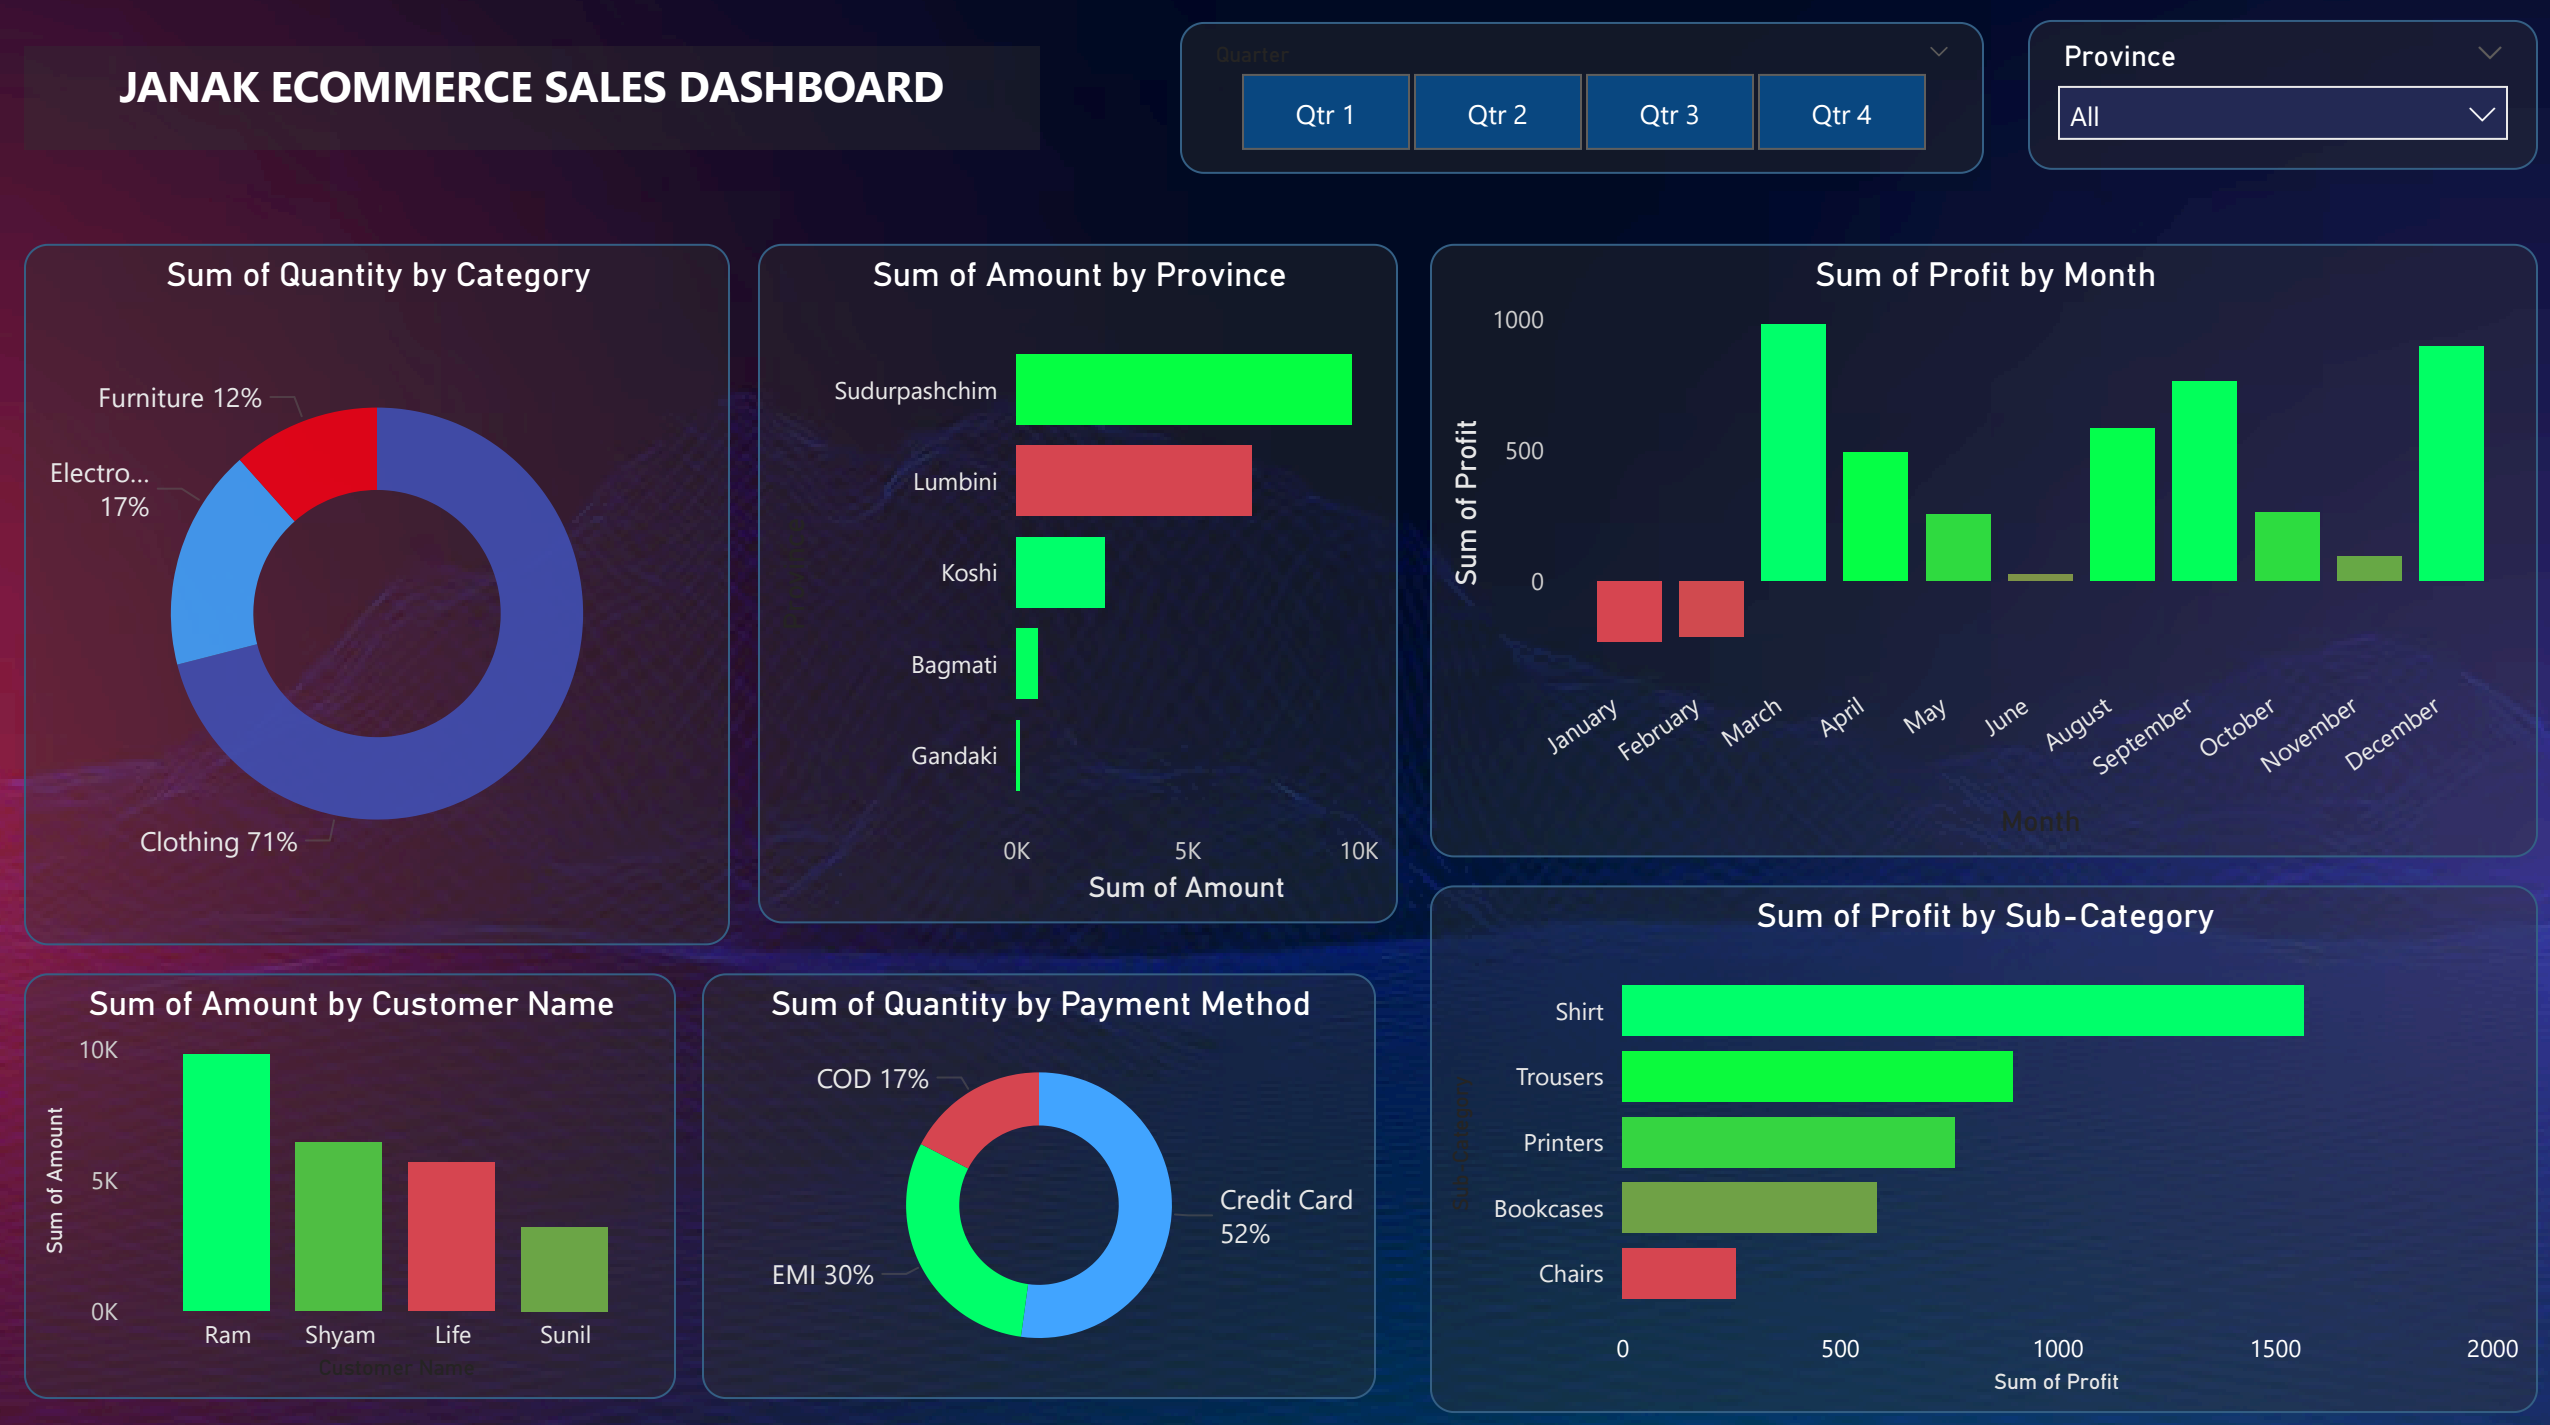

The dashboard page shown, as its layout file describes it:
{"tool":"powerbi","page":{"name":"Page 1","canvas":[1280,720],"ordinal":0},"visuals":[{"type":"textbox","box":[13.4,25.2,507.3,52.1],"z":0},{"type":"columnChart","fields":{"Y":["Sum(Details.Profit)"],"Category":["Orders.Order Date.Variation.Date Hierarchy.Month"]},"box":[715.8,123.7,554.6,307.2],"z":1000},{"type":"barChart","fields":{"Category":["Details.Sub-Category"],"Y":["Sum(Details.Profit)"]},"box":[715.8,444.8,554.6,264.1],"z":2000},{"type":"donutChart","fields":{"Category":["Details.Category"],"Y":["Sum(Details.Quantity)"]},"box":[13.4,124.3,352.8,351.1],"z":3000},{"type":"donutChart","fields":{"Y":["Sum(Details.Quantity)"],"Category":["Details.Payment Method"]},"box":[351.7,489.3,337.8,212.7],"z":4000},{"type":"barChart","fields":{"Y":["Sum(Details.Amount)"],"Category":["Orders.Province"]},"box":[379.6,124.3,320.8,339.3],"z":5000},{"type":"columnChart","fields":{"Category":["Orders.Customer Name"],"Y":["Sum(Details.Amount)"]},"box":[13.4,488.8,325.9,213.3],"z":6000},{"type":"slicer","fields":{"Values":["Orders.Order Date.Variation.Date Hierarchy.Quarter"]},"box":[591.3,13.4,401.5,75.6],"z":6001},{"type":"slicer","fields":{"Values":["Orders.Province"]},"box":[1014.6,11.8,255.3,75.6],"z":6002}]}

Visuals, with their boxes in screenshot pixels (x1, y1, x2, y2), scaled from the page's 1280x720 canvas onto the 2550x1425 screenshot:
textbox: left=27, top=50, right=1037, bottom=153
columnChart - Sum(Details.Profit) x Orders.Order Date.Variation.Date Hierarchy.Month: left=1426, top=245, right=2531, bottom=853
barChart - Details.Sub-Category x Sum(Details.Profit): left=1426, top=880, right=2531, bottom=1403
donutChart - Details.Category x Sum(Details.Quantity): left=27, top=246, right=730, bottom=941
donutChart - Sum(Details.Quantity) x Details.Payment Method: left=701, top=968, right=1374, bottom=1389
barChart - Sum(Details.Amount) x Orders.Province: left=756, top=246, right=1395, bottom=918
columnChart - Orders.Customer Name x Sum(Details.Amount): left=27, top=967, right=676, bottom=1390
slicer - Orders.Order Date.Variation.Date Hierarchy.Quarter: left=1178, top=27, right=1978, bottom=176
slicer - Orders.Province: left=2021, top=23, right=2530, bottom=173
